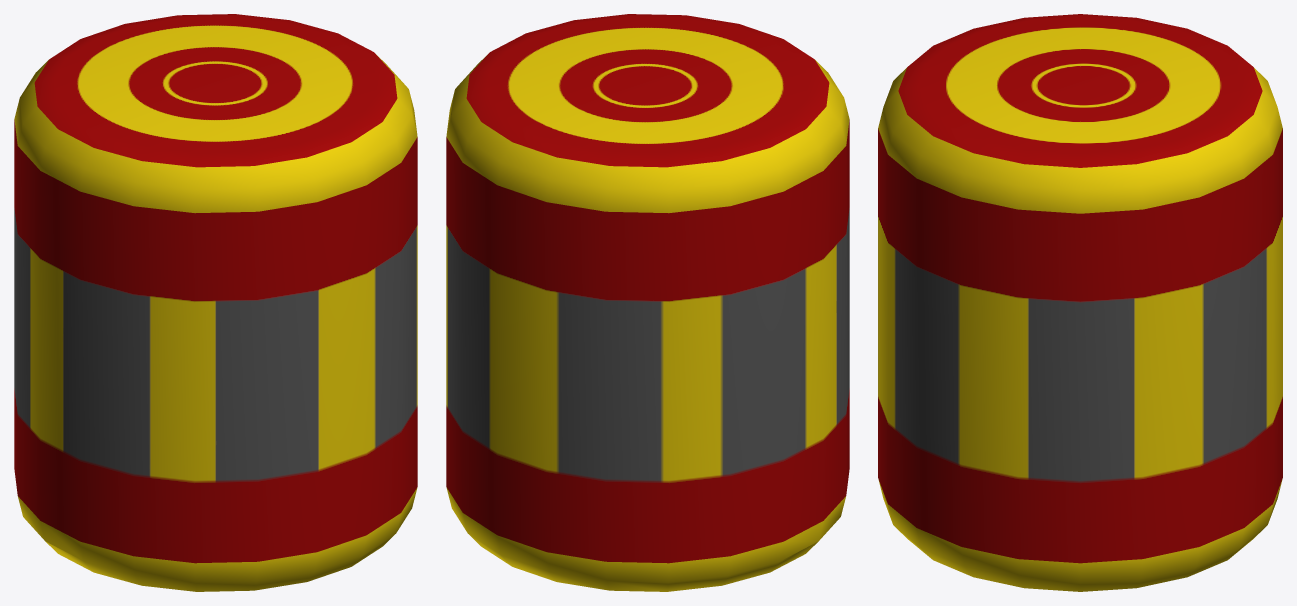
Rendered from Barril.fbx.
3 views of the same model, side by side, from view 1: azimuth 30°, elevation 25°; view 2: azimuth 150°, elevation 25°; view 3: azimuth 270°, elevation 25° (orthographic).
Visible parts, largest first — view 1: pCylinder4; view 2: pCylinder4; view 3: pCylinder4.
Boxes of the visible parts, x1,y1,x2,y2 form: pCylinder4: (14, 14, 417, 591); pCylinder4: (446, 14, 849, 591); pCylinder4: (878, 14, 1282, 591).
Bounding box in the file's own units: 1 × 1.19 × 1.
1 material, 1 textured.
